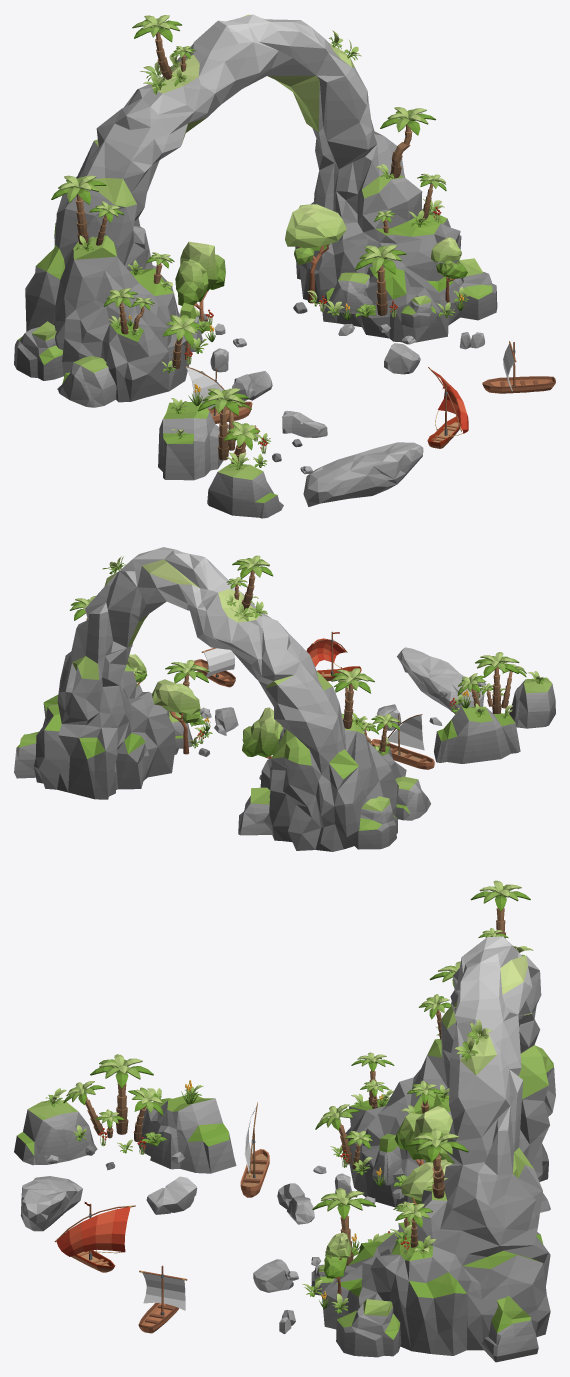
Rendered from mountain_arch.glb.
3 views of the same model, one above another, from view 1: azimuth 30°, elevation 25°; view 2: azimuth 150°, elevation 25°; view 3: azimuth 270°, elevation 25° (orthographic). The views are drawn at different scales.
Parts seen in each view (by area): view 1: mountain arch_65, stone large 3_53, green stone 4_27, green stone 5 (1)_9, tree 10_34, tree 3_60, green stone 5_55, green stone 6 (2)_19, green stone 6 (1)_48, sailboat 3_14, sailboat 2_16, green stone 5 (2)_94 (+13 smaller); view 2: mountain arch_65, green stone 4_27, stone large 3_53, green stone 5 (1)_9, green stone 6 (2)_19, tree 10_34, sailboat_90, tree 3_60, green stone 3_81, green stone 5_55, sailboat 2_16, sailboat 3_14 (+9 smaller); view 3: mountain arch_65, green stone 4_27, green stone 5 (1)_9, sailboat 3_14, green stone 6 (1)_48, stone large 3_53, green stone_20, sailboat 2_16, tree 3_60, palm tree large 2_78, palm tree bent 2 (1)_79, stone small 5_25 (+12 smaller).
Boxes of the visible parts, x1,y1,x2,y2 form: mountain arch_65: (25, 14, 461, 402); stone large 3_53: (303, 442, 423, 506); green stone 4_27: (158, 402, 223, 480); green stone 5 (1)_9: (207, 463, 283, 518); tree 10_34: (285, 204, 346, 303); tree 3_60: (175, 241, 225, 321); green stone 5_55: (57, 356, 116, 407); green stone 6 (2)_19: (14, 321, 63, 380); green stone 6 (1)_48: (456, 258, 497, 320); sailboat 3_14: (427, 367, 468, 448); sailboat 2_16: (482, 341, 555, 393); green stone 5 (2)_94: (323, 272, 374, 314); mountain arch_65: (34, 547, 406, 851); green stone 4_27: (434, 706, 520, 763); stone large 3_53: (397, 647, 484, 713); green stone 5 (1)_9: (509, 677, 555, 728); green stone 6 (2)_19: (353, 796, 397, 849); tree 10_34: (152, 679, 200, 754); sailboat_90: (372, 714, 434, 769); tree 3_60: (242, 707, 283, 758); green stone 3_81: (238, 787, 272, 835); green stone 5_55: (395, 776, 430, 820); sailboat 2_16: (193, 648, 235, 687); sailboat 3_14: (306, 631, 361, 681); mountain arch_65: (322, 936, 555, 1355); green stone 4_27: (138, 1095, 236, 1173); green stone 5 (1)_9: (14, 1100, 97, 1165); sailboat 3_14: (54, 1201, 135, 1272); green stone 6 (1)_48: (336, 1299, 401, 1357); stone large 3_53: (20, 1176, 82, 1231); green stone_20: (482, 1295, 538, 1362); sailboat 2_16: (138, 1265, 187, 1333); tree 3_60: (395, 1106, 454, 1165); palm tree large 2_78: (90, 1054, 153, 1134); palm tree bent 2 (1)_79: (406, 1128, 468, 1198); stone small 5_25: (146, 1176, 197, 1214).
Bounding box in the file's own units: 19.16 × 13.6 × 19.32.
Materials: 1 (1 with a texture image).
